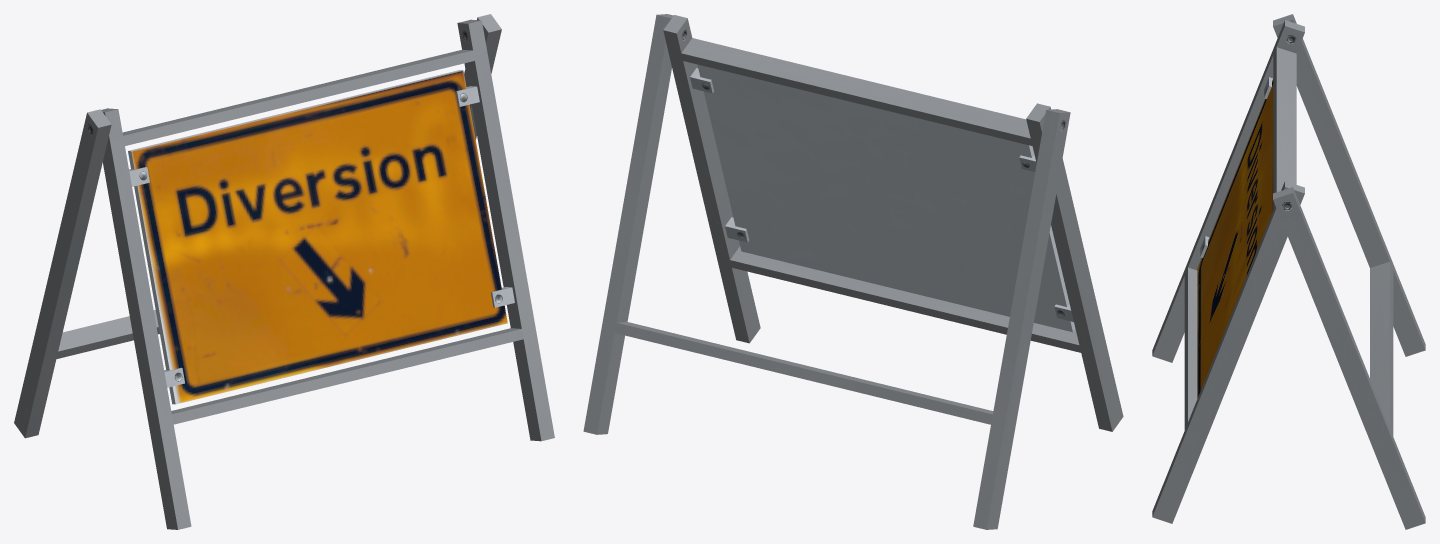
The model's file is StreetSigns_12.fbx.
The picture shows the model from 3 angles, left to right: view 1: azimuth 30°, elevation 25°; view 2: azimuth 150°, elevation 25°; view 3: azimuth 270°, elevation 25°; orthographic projection. The views are drawn at different scales.
Visible parts, largest first — view 1: StreetSigns_12; view 2: StreetSigns_12; view 3: StreetSigns_12.
Boxes of the visible parts, x1=… form: StreetSigns_12: x1=14, y1=14, x2=554, y2=529; StreetSigns_12: x1=583, y1=14, x2=1123, y2=529; StreetSigns_12: x1=1152, y1=14, x2=1425, y2=529.
Bounding box in the file's own units: 1.26 × 1.11 × 0.8133.
